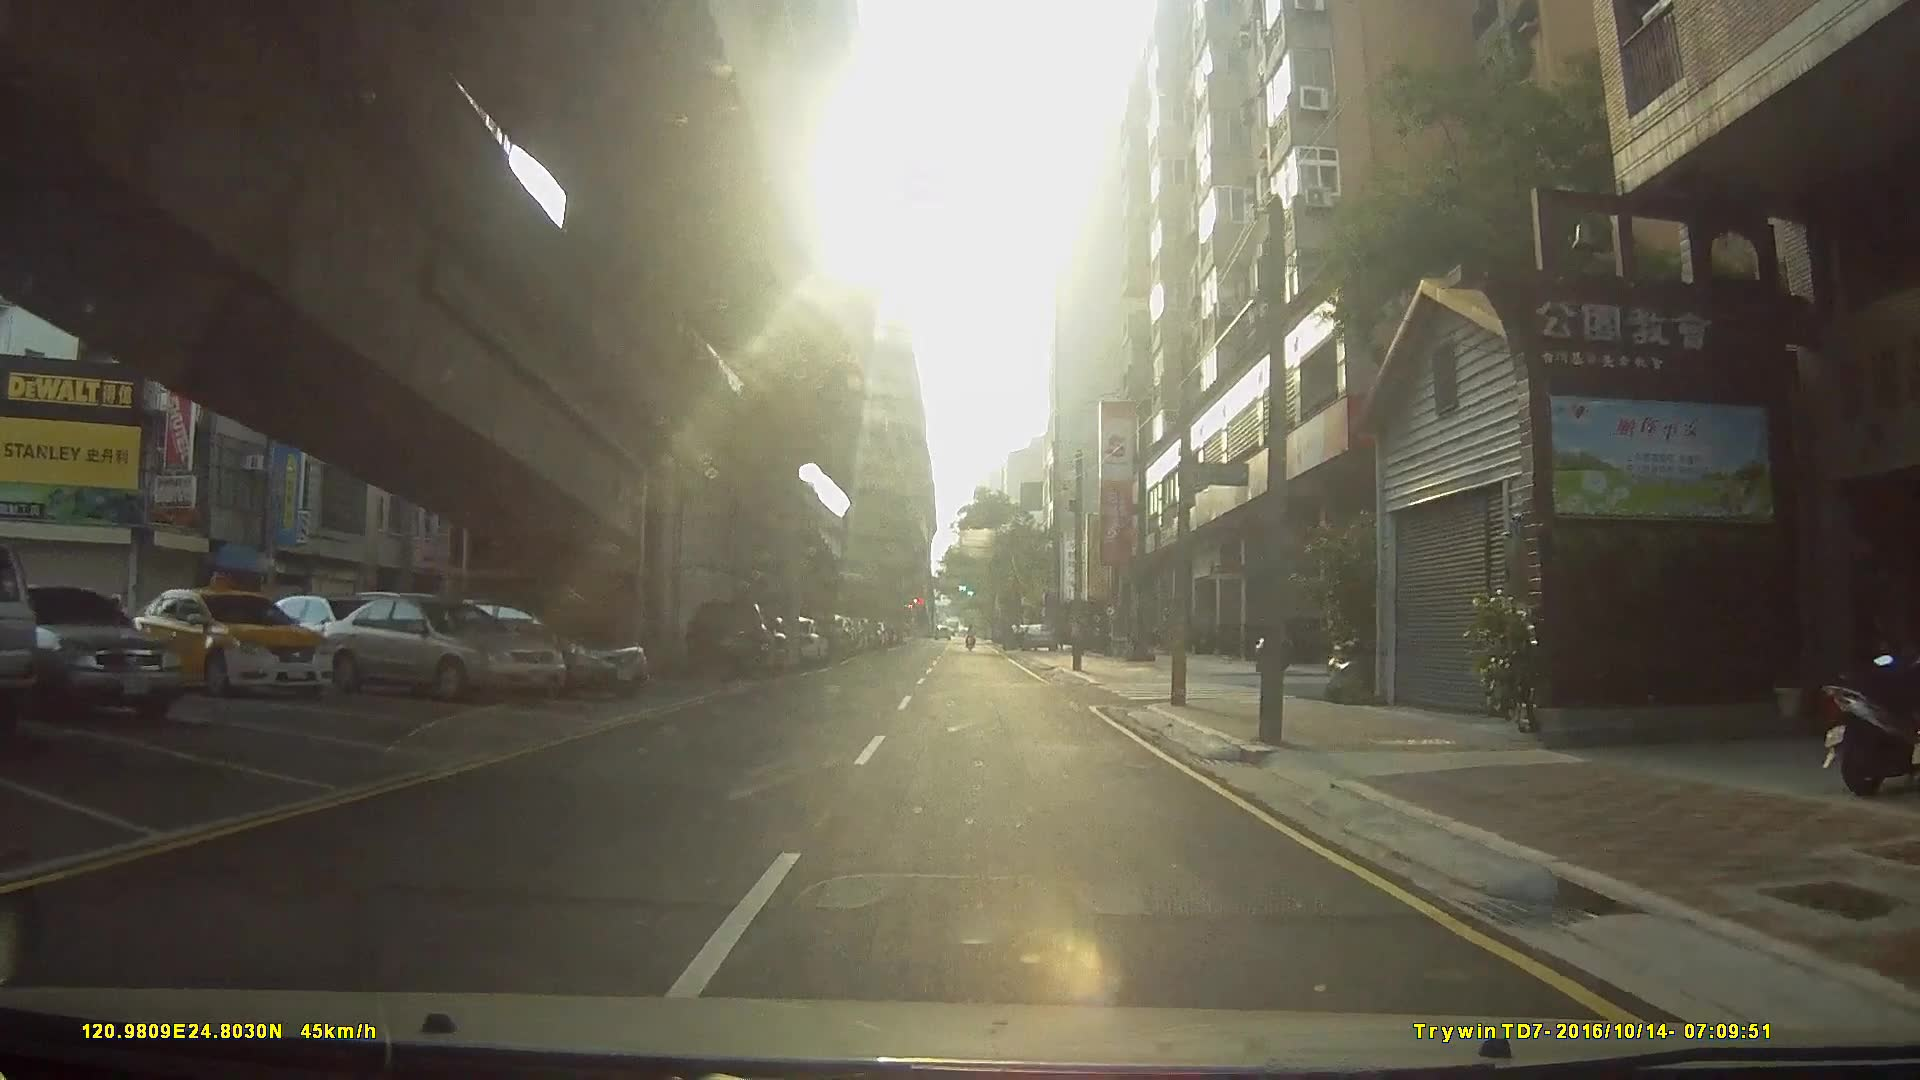vehicle: (315, 593, 567, 702), (405, 597, 649, 702), (8, 584, 183, 723), (131, 588, 330, 698), (683, 596, 778, 676), (0, 538, 40, 724)
